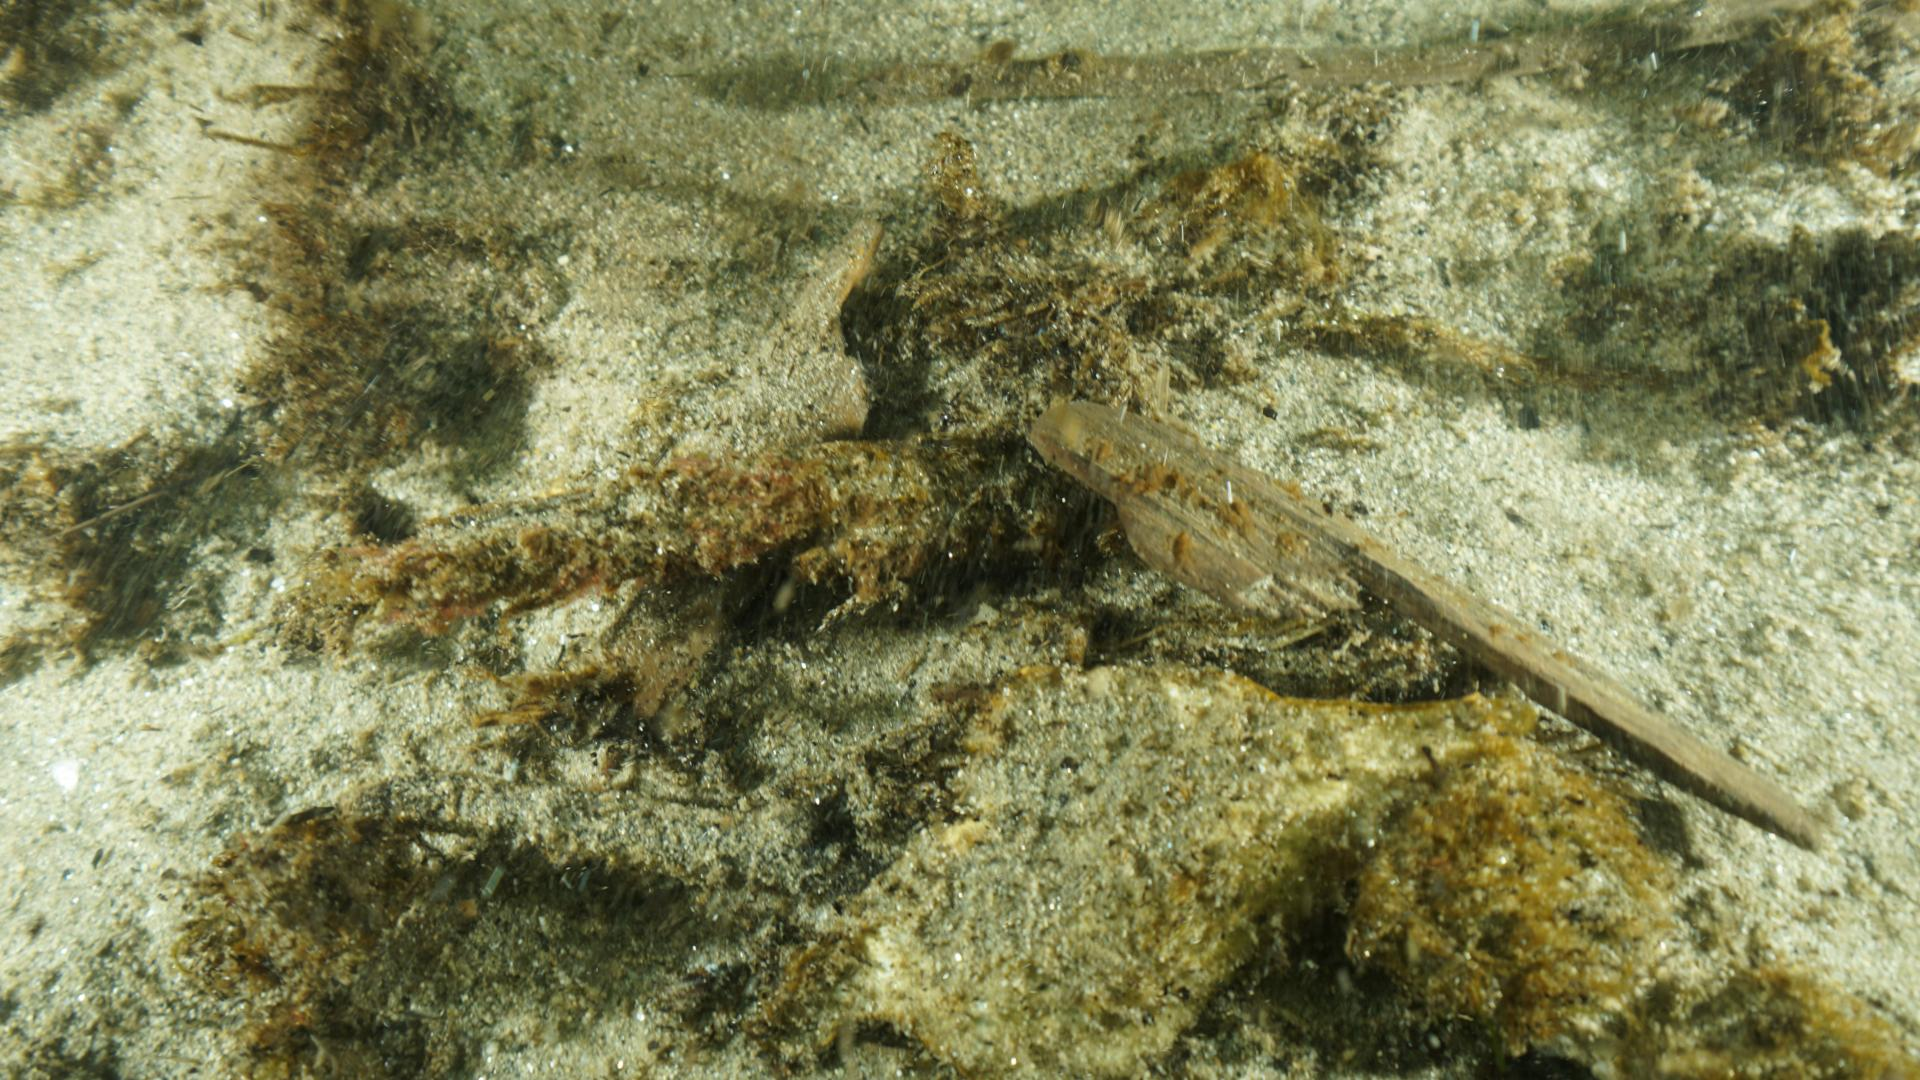wood: (1029, 392, 1818, 848)
